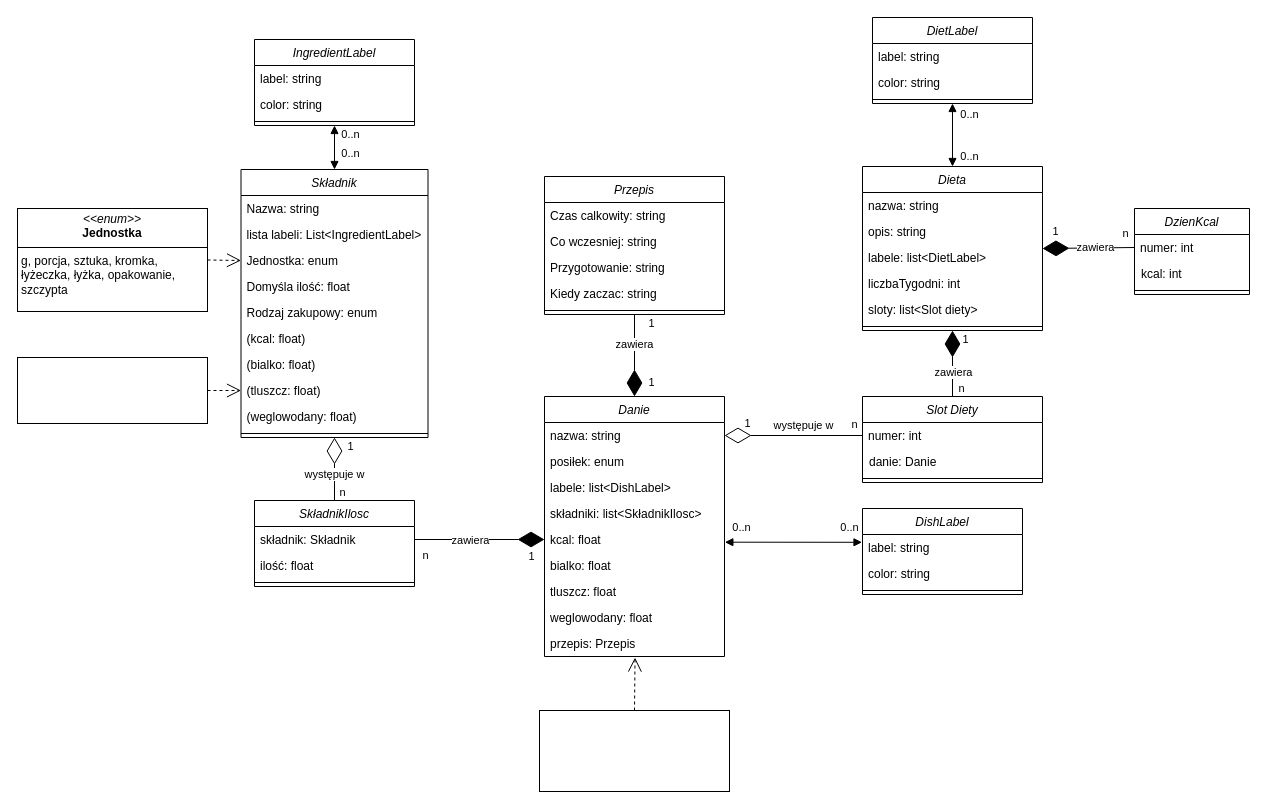
Some shapes in this 1267 by 809 pixel diagram are drawn without their labels. The shapes that lost their labels are listed below. From the top down, each one's centre as x and y in pixels, then its label:
(112,390): <<enum>> Rodzaj zakupowy Lidl, Świeże, Zapasy
(634,751): <<enum>> Posiłek Breakfast, Main Meal, Pre-Workout, Post-Workout
